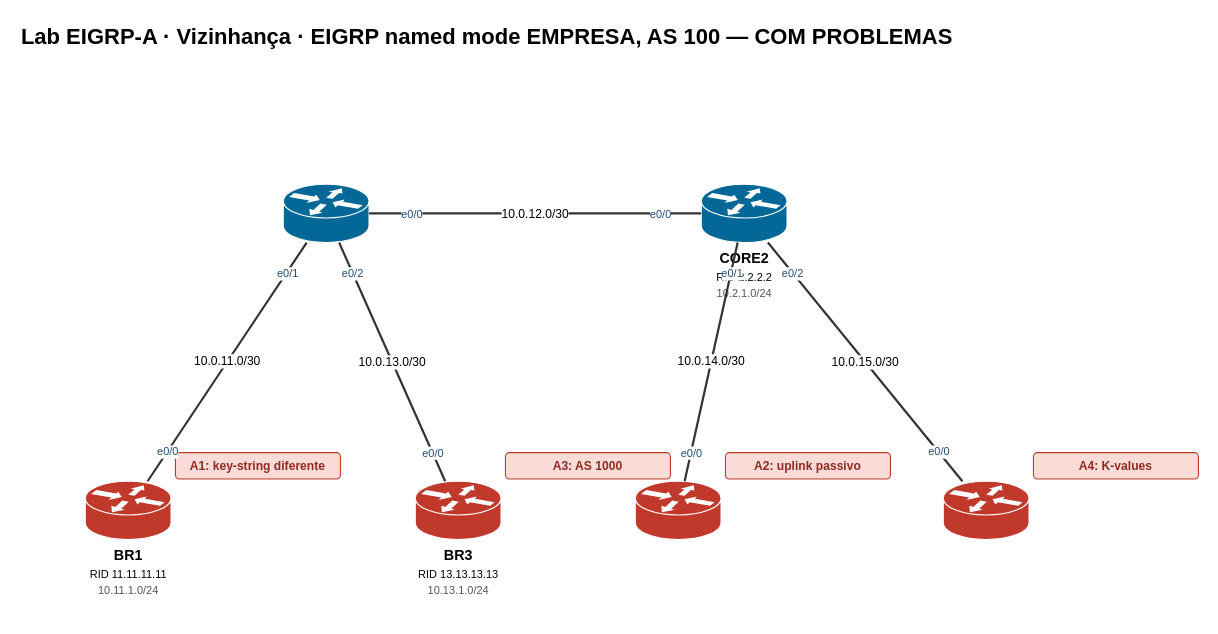
Image size: 1218x634. Some labels were removed from this diagram. The shapes that lost their labels are listed below. From the top down, each one's box as (x1, y1, x2, y2) in pixels, then its label:
(282, 183, 369, 243): CORE1 RID 1.1.1.1 10.1.1.0/24
(634, 480, 721, 540): BR2 RID 12.12.12.12 10.12.1.0/24
(942, 480, 1029, 540): DC1 RID 21.21.21.21 10.21.1.0/24 10.21.2.0/24
